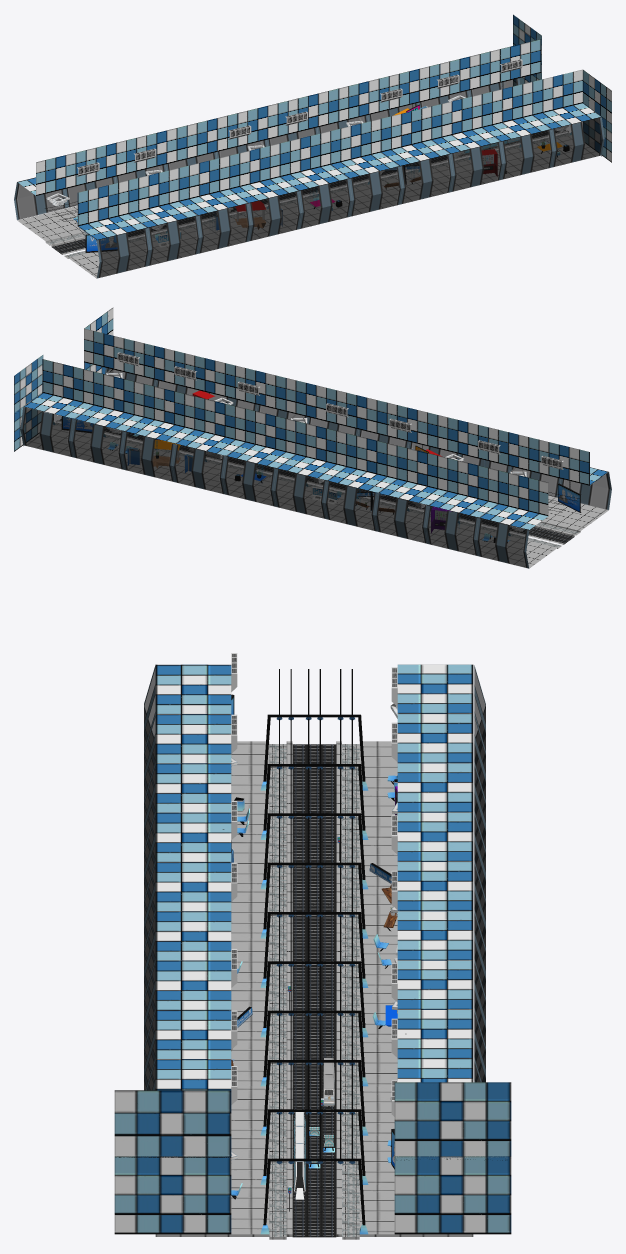
Rendered from subwaysurferstest33.glb.
The picture shows the model from 3 angles, top to bottom: view 1: azimuth 30°, elevation 25°; view 2: azimuth 150°, elevation 25°; view 3: azimuth 270°, elevation 25°; orthographic projection. The views are drawn at different scales.
Parts seen in each view (by area): view 1: tiledwall.017, tiledwall.006, tiledwall.019, tiledwall.024, tiledwall.003, tiledwall, tiledwall.018, tiledwall.005, tiledwall.016, tiledwall.023, window1, window1.002 (+39 smaller); view 2: tiledwall.025, tiledwall.009, tiledwall.007, tiledwall.013, tiledwall.020, tiledwall.021, tiledwall.022, tiledwall.027, tiledwall.026, tiledwall.012, window1.013, window1.006 (+39 smaller); view 3: tiledwall.008, tiledwall.004, tiledwall.002, tiledwall.001, tiledwall.016, tiledwall.019, tiledwall.020, tiledwall.025, tiledwall.006, tiledwall.017, tiledwall.018, tiledwall.023 (+56 smaller).
Part boxes in pixels (<box>): tiledwall.017: <box>279,131,348,190</box>; tiledwall.006: <box>380,106,449,166</box>; tiledwall.019: <box>178,156,247,215</box>; tiledwall.024: <box>77,180,146,240</box>; tiledwall.003: <box>481,82,550,141</box>; tiledwall: <box>532,69,601,129</box>; tiledwall.018: <box>229,143,297,203</box>; tiledwall.005: <box>431,94,500,153</box>; tiledwall.016: <box>330,119,399,178</box>; tiledwall.023: <box>128,168,196,227</box>; window1: <box>551,117,604,167</box>; window1.002: <box>450,142,503,192</box>; tiledwall.025: <box>378,445,447,505</box>; tiledwall.009: <box>125,384,194,443</box>; tiledwall.007: <box>74,371,143,431</box>; tiledwall.013: <box>24,359,92,418</box>; tiledwall.020: <box>226,408,295,468</box>; tiledwall.021: <box>277,421,345,480</box>; tiledwall.022: <box>327,433,396,492</box>; tiledwall.027: <box>479,470,548,529</box>; tiledwall.026: <box>428,458,497,517</box>; tiledwall.012: <box>175,396,244,455</box>; window1.013: <box>273,468,326,519</box>; window1.006: <box>71,419,124,469</box>; tiledwall.008: <box>394,1156,511,1234</box>; tiledwall.004: <box>114,1156,231,1234</box>; tiledwall.002: <box>394,1082,511,1160</box>; tiledwall.001: <box>114,1090,231,1157</box>; tiledwall.016: <box>155,911,231,960</box>; tiledwall.019: <box>155,763,231,812</box>; tiledwall.020: <box>397,911,473,960</box>; tiledwall.025: <box>397,763,473,812</box>; tiledwall.006: <box>155,960,231,1009</box>; tiledwall.017: <box>155,862,231,911</box>; tiledwall.018: <box>155,812,231,861</box>; tiledwall.023: <box>155,714,231,763</box>.
Size of the model in its own units: 403 by 59.5 by 136.
4 materials, 4 textured.
